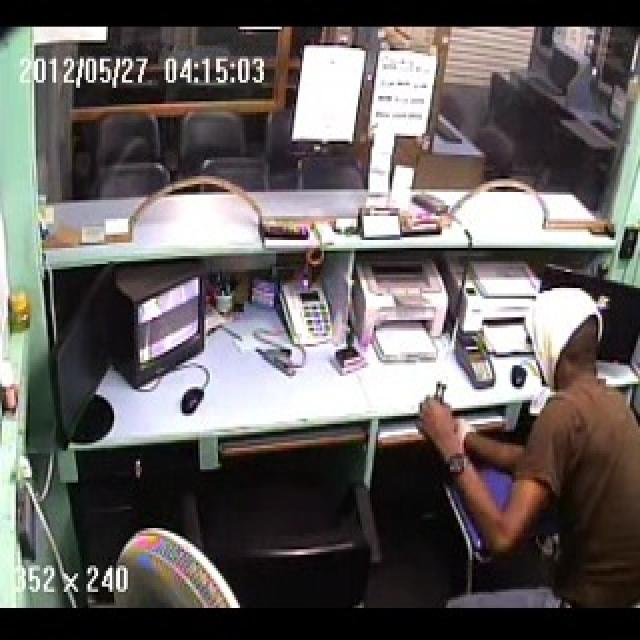thief: (446, 307, 636, 615)
